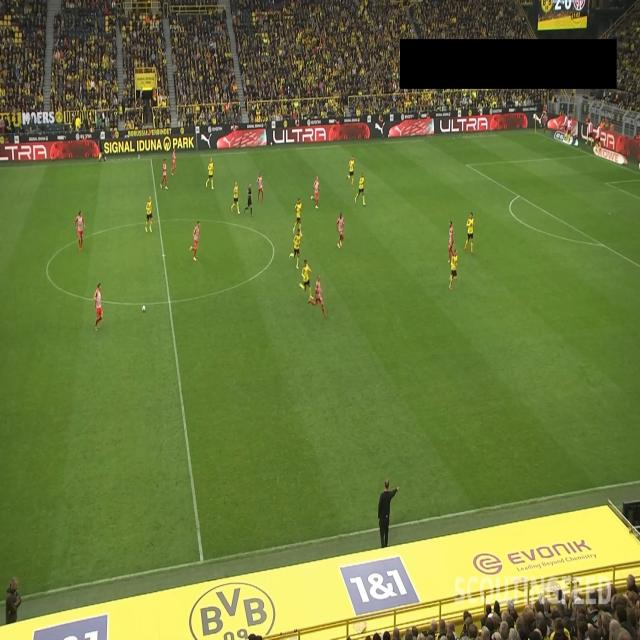ball: (142, 304, 146, 313)
